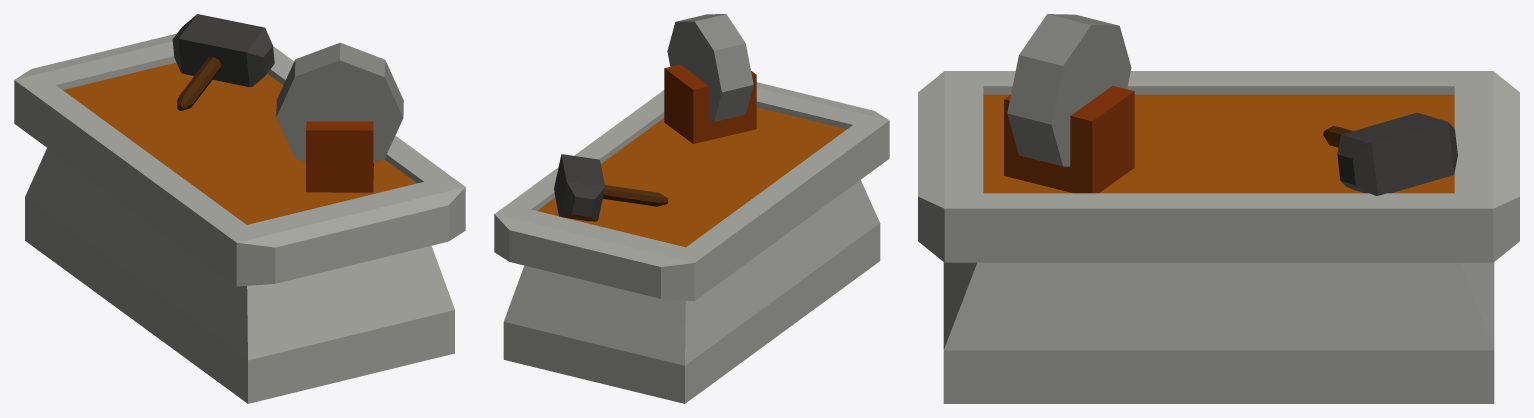
The model's file is workshop.fbx.
The picture shows the model from 3 angles, left to right: view 1: azimuth 30°, elevation 25°; view 2: azimuth 150°, elevation 25°; view 3: azimuth 270°, elevation 25°; orthographic projection. The views are drawn at different scales.
Parts seen in each view (by area): view 1: Cube.001, Cylinder.006, Cylinder.005; view 2: Cube.001, Cylinder.006, Cylinder.005; view 3: Cube.001, Cylinder.006, Cylinder.005.
Boxes of the visible parts, box(x1,y1,x2,y2) form: Cube.001: box(14, 33, 465, 403); Cylinder.006: box(276, 42, 403, 192); Cylinder.005: box(172, 14, 274, 110); Cube.001: box(494, 82, 889, 403); Cylinder.006: box(664, 14, 756, 143); Cylinder.005: box(554, 154, 668, 221); Cube.001: box(918, 71, 1519, 403); Cylinder.006: box(1004, 14, 1134, 193); Cylinder.005: box(1323, 112, 1457, 195).
Bounding box in the file's own units: 416 × 487 × 767.
